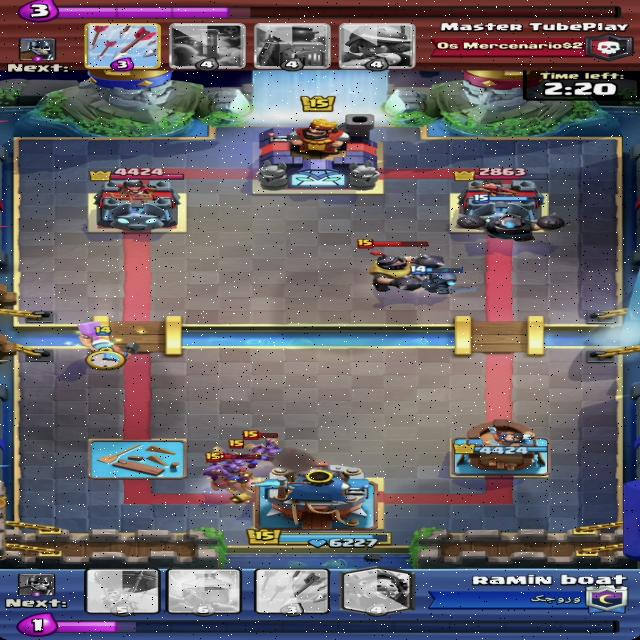Enemy-Hog: (206, 452, 280, 504)
Enemy-MegaKnight: (356, 238, 445, 295)
Enemy-Minion: (209, 440, 263, 468), (240, 430, 285, 461), (201, 452, 238, 484)
Player-Lumberjack: (76, 320, 142, 363)
Player-MegaKnight: (456, 194, 568, 243)
Player-MiniPEKKA: (400, 266, 480, 296)
